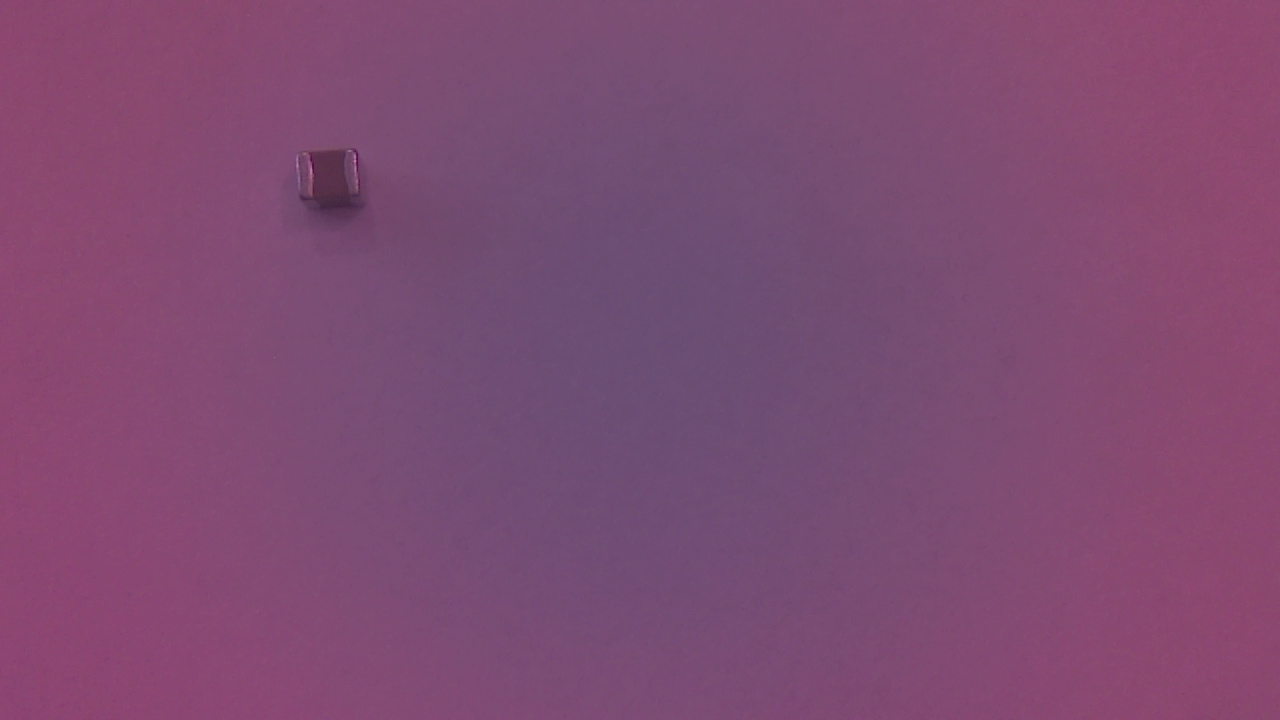Condensator: (290, 144, 381, 220)
